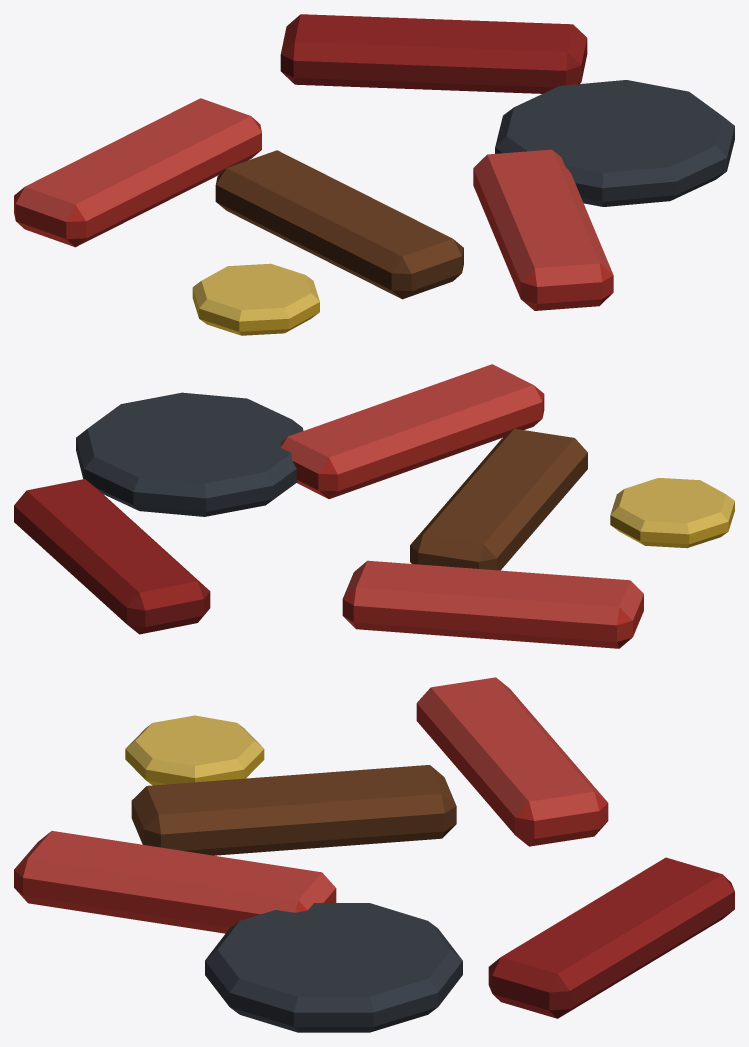
The model's file is barrel-debris.glb.
3 views of the same model, one above another, from view 1: azimuth 30°, elevation 25°; view 2: azimuth 150°, elevation 25°; view 3: azimuth 270°, elevation 25° (orthographic). The views are drawn at different scales.
Visible parts, largest first — view 1: mesh_barrel_debris; view 2: mesh_barrel_debris; view 3: mesh_barrel_debris.
Part boxes in pixels (x1=…): mesh_barrel_debris: x1=14, y1=14, x2=734, y2=335; mesh_barrel_debris: x1=14, y1=364, x2=734, y2=648; mesh_barrel_debris: x1=14, y1=677, x2=734, y2=1032.
Bounding box in the file's own units: 0.766 × 0.05 × 0.7264.
